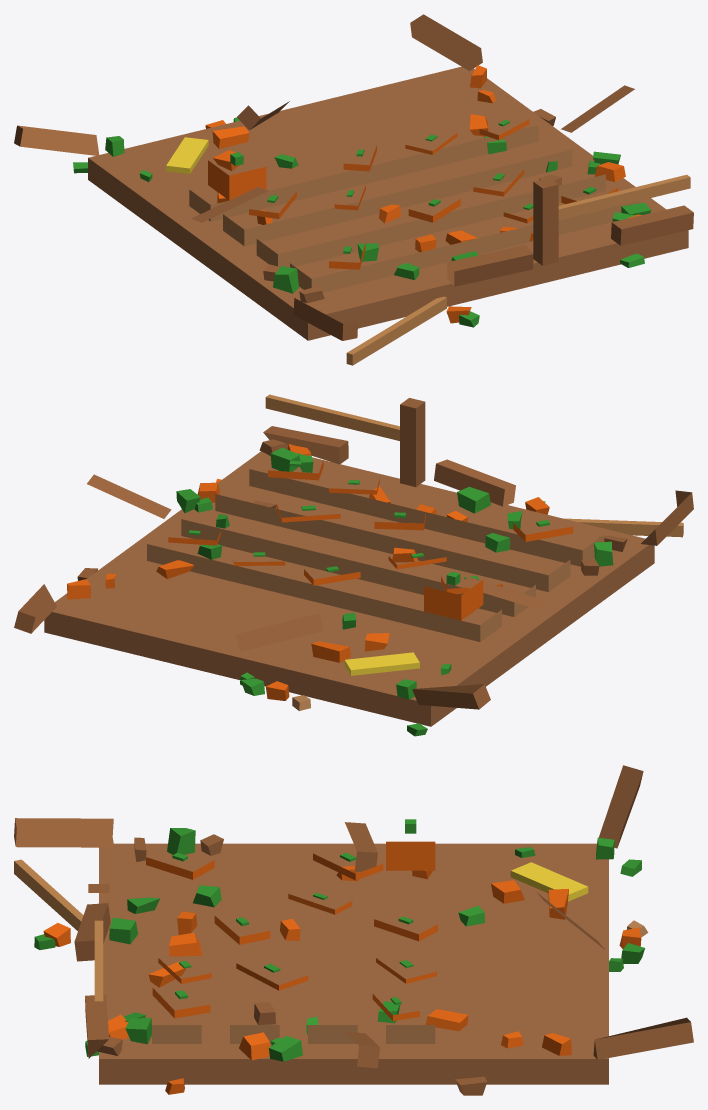
File: field_t2_v3_dmg2.glb
3 views of the same model, one above another, from view 1: azimuth 30°, elevation 25°; view 2: azimuth 150°, elevation 25°; view 3: azimuth 270°, elevation 25° (orthographic). The views are drawn at different scales.
Visible parts, largest first — view 1: field_t2_v3_dmg2; view 2: field_t2_v3_dmg2; view 3: field_t2_v3_dmg2.
Boxes of the visible parts, x1=… form: field_t2_v3_dmg2: x1=14, y1=14, x2=693, y2=365; field_t2_v3_dmg2: x1=14, y1=394, x2=693, y2=736; field_t2_v3_dmg2: x1=14, y1=765, x2=693, y2=1095.
Bounding box in the file's own units: 0.96 × 0.18 × 0.96.
1 material, 1 textured.
